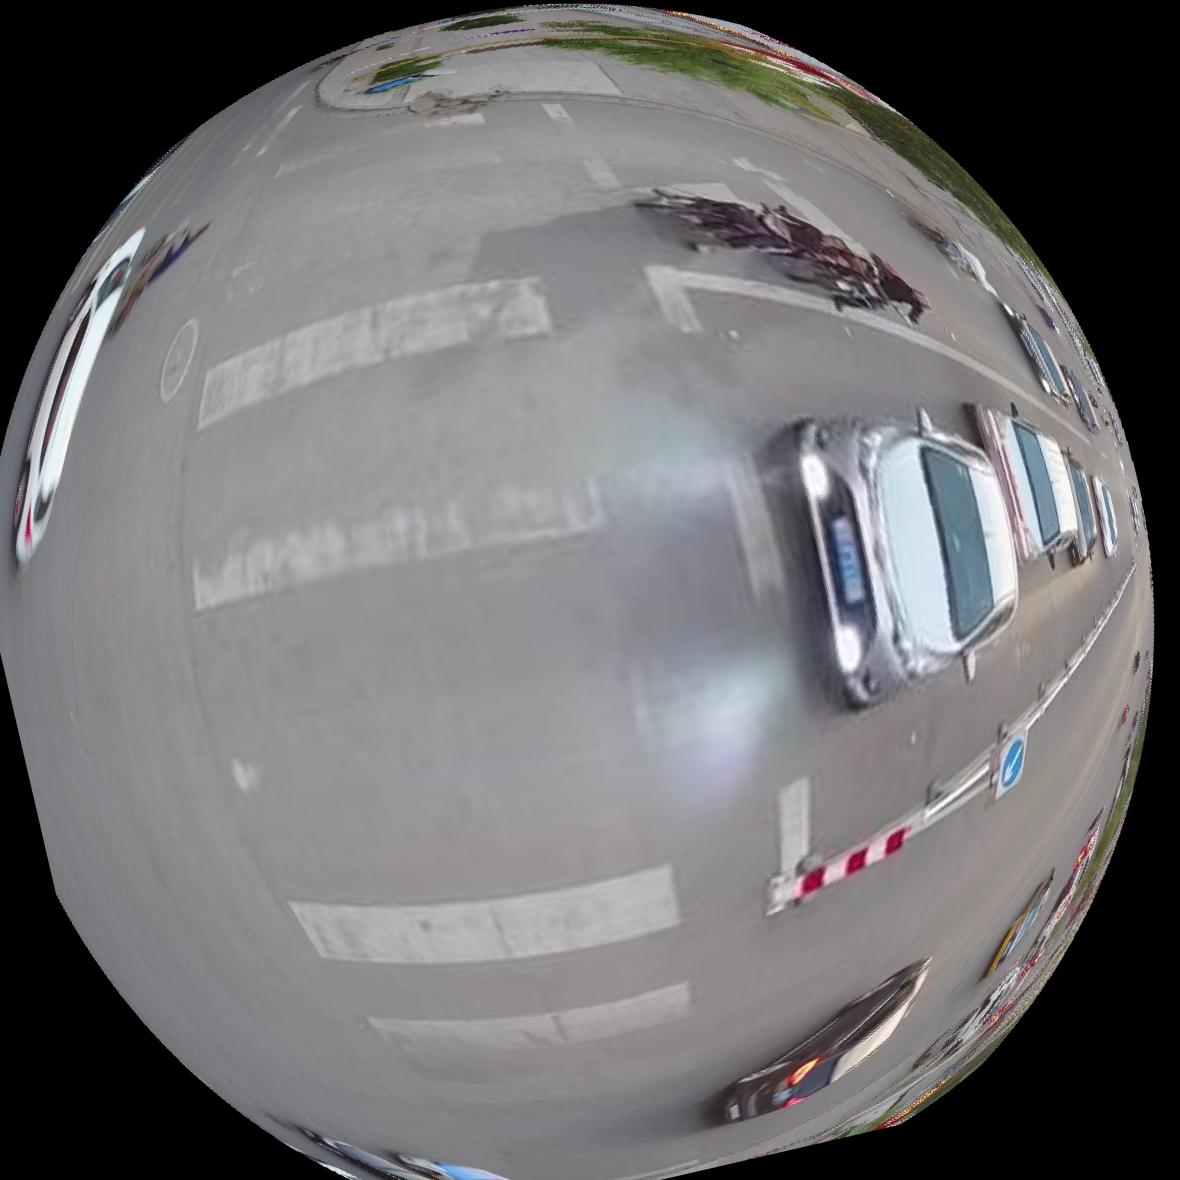cars: (796, 407, 1017, 711), (11, 227, 142, 568), (720, 960, 929, 1125), (965, 402, 1081, 562), (298, 1129, 428, 1180), (1064, 450, 1099, 566), (1089, 474, 1119, 559), (431, 1165, 501, 1180)
trees: (850, 100, 1040, 268)
